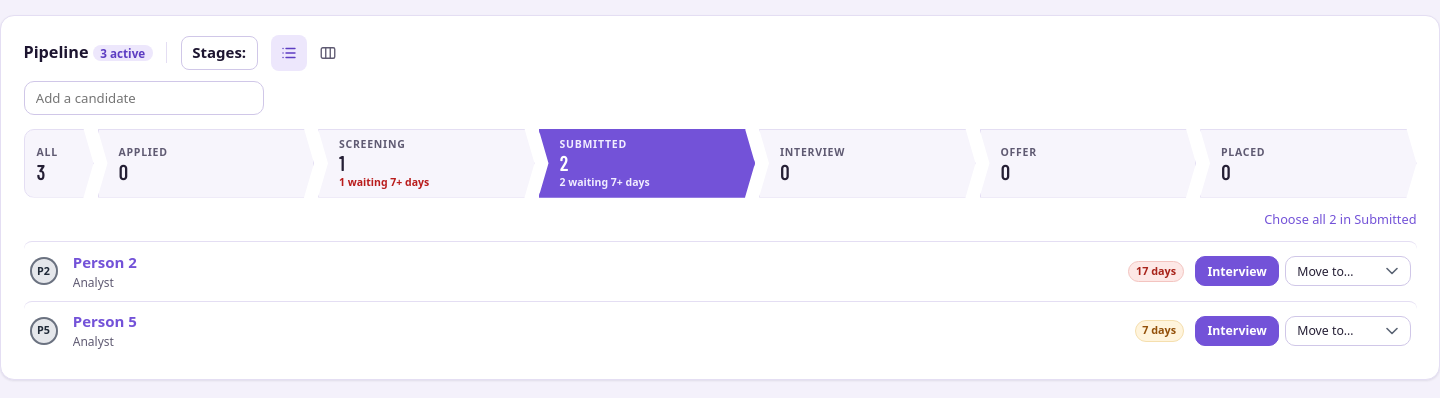
Test case: pipeline steps › keeps the stage it opened at when people move on (it does not jump)
Click the button "Interview" next to "17 days".
click(1237, 271)  # box 1195,256 -> 1279,286
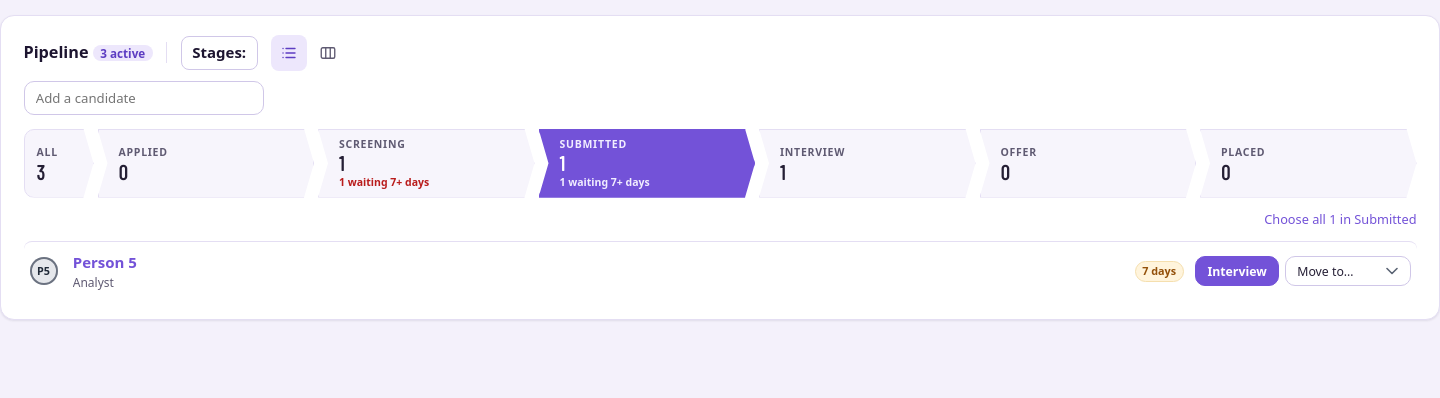
Expected: the number of list items is 1, 24,241 -> 1416,301
